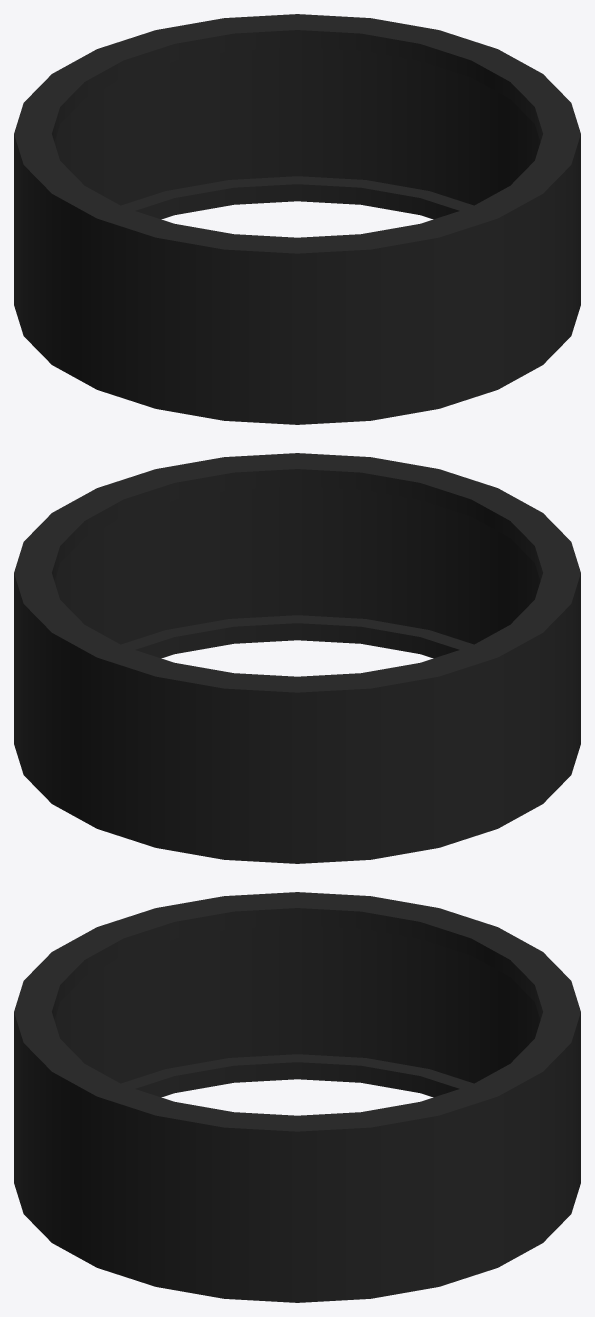
The model's file is Auriga_Fuselage_1.obj.
3 renders of one model, top to bottom at view 1: azimuth 30°, elevation 25°; view 2: azimuth 150°, elevation 25°; view 3: azimuth 270°, elevation 25°, orthographic.
Parts seen in each view (by area): view 1: Auriga_Fuselage_1; view 2: Auriga_Fuselage_1; view 3: Auriga_Fuselage_1.
Part boxes in pixels (x1,y1,x2,y2): Auriga_Fuselage_1: (14,14,580,424); Auriga_Fuselage_1: (14,453,580,863); Auriga_Fuselage_1: (14,892,580,1302).
Bounding box in the file's own units: 1.88 × 0.625 × 1.88.
